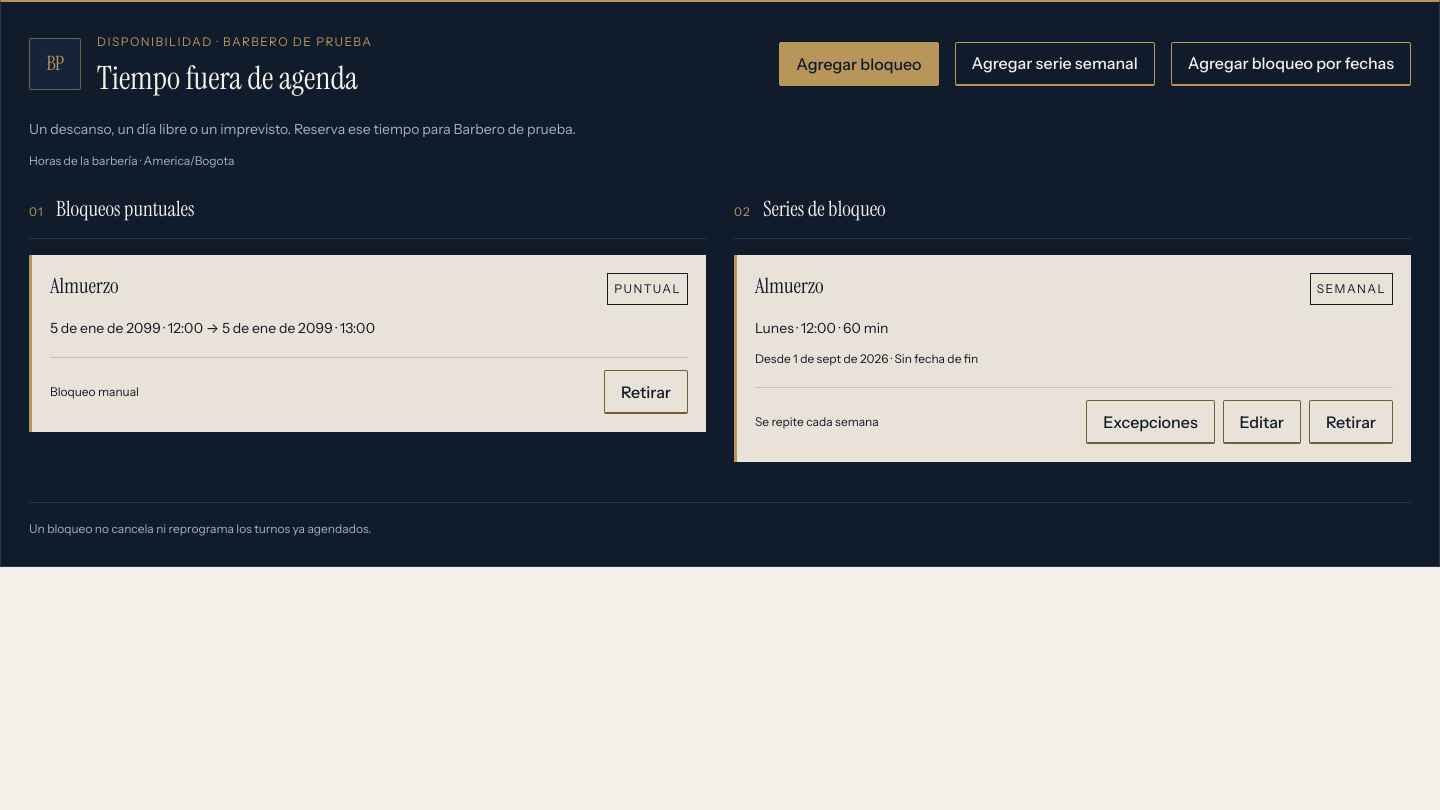
Test: BarberBlocksPanel · series por fechas, edición y excepciones (#100) › edits the whole series in place
Click the button "Editar".
click(1262, 422)  # box left=1223, top=400, right=1301, bottom=444
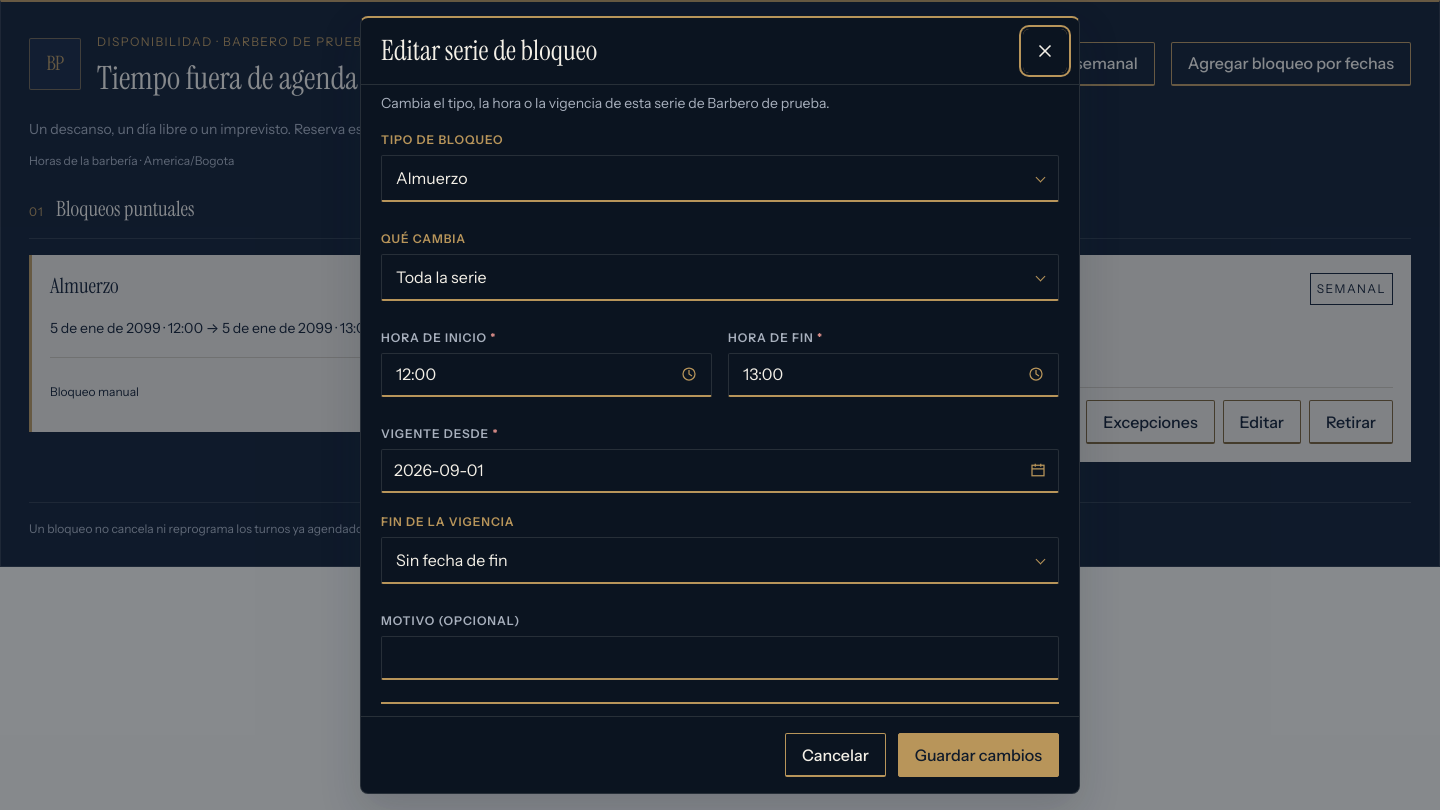
Submit the form, box left=381, top=133, right=1059, bottom=795
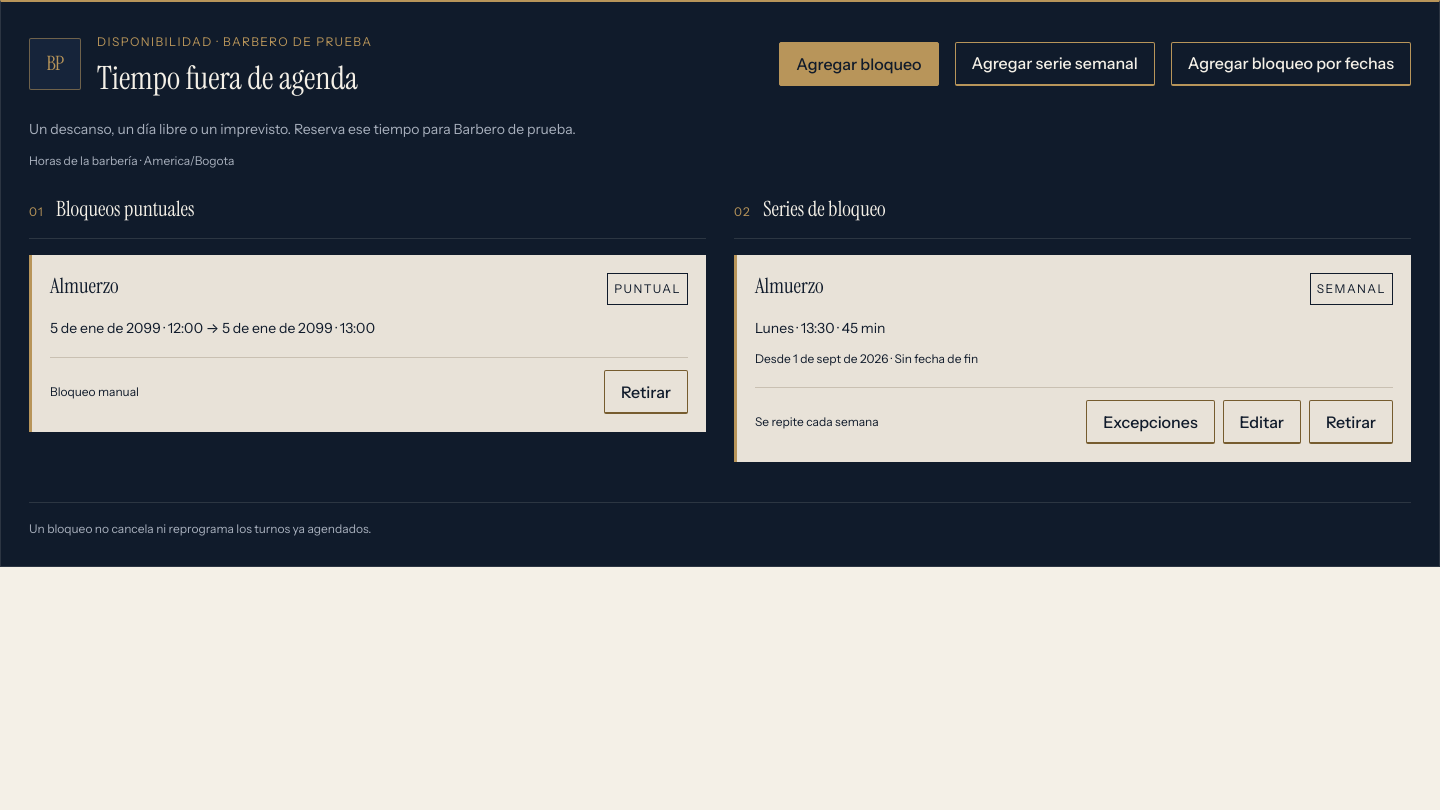
Expected: the list item with class "blocks-panel__record" shows "13:30", left=755, top=319, right=886, bottom=337
